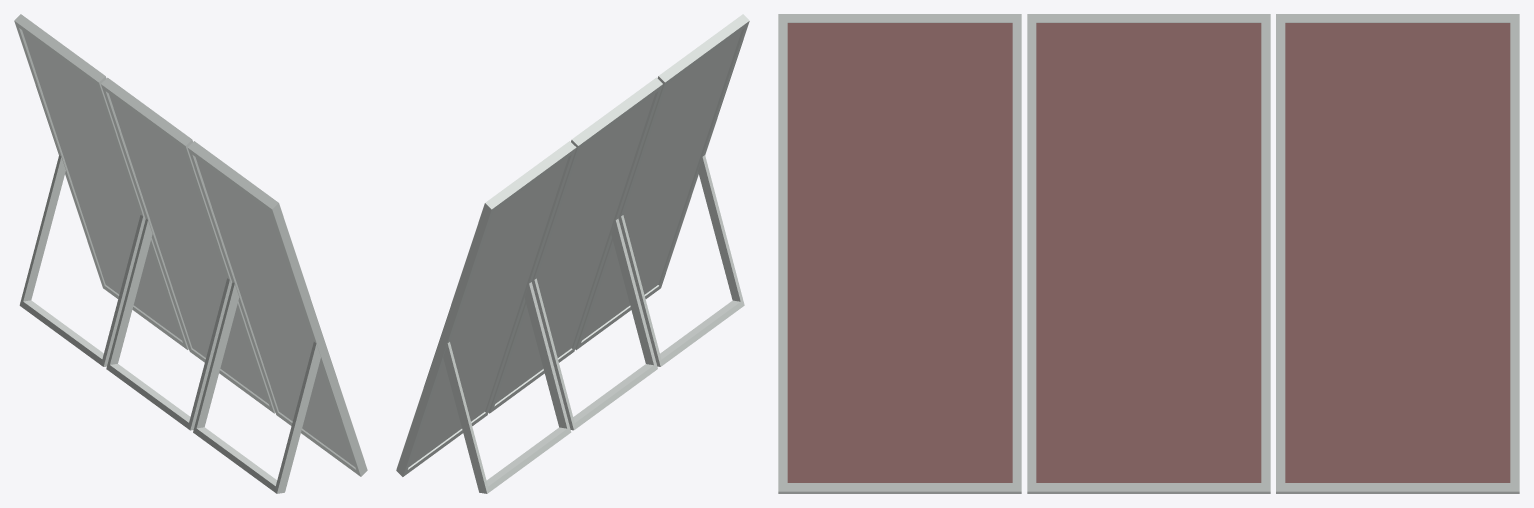
3 renders of one model, left to right at view 1: azimuth 30°, elevation 25°; view 2: azimuth 150°, elevation 25°; view 3: azimuth 270°, elevation 25°, orthographic. The views are drawn at different scales.
Visible parts, largest first — view 1: G:\FFXIV-MapTools\exports\e3ec\bg\ex2\02_est_e3\evt\e3ec\bgp; view 2: G:\FFXIV-MapTools\exports\e3ec\bg\ex2\02_est_e3\evt\e3ec\bgp; view 3: G:\FFXIV-MapTools\exports\e3ec\bg\ex2\02_est_e3\evt\e3ec\bgp (×2).
Boxes of the visible parts, <box> form: G:\FFXIV-MapTools\exports\e3ec\bg\ex2\02_est_e3\evt\e3ec\bgp: <box>14,14,367,493</box>; G:\FFXIV-MapTools\exports\e3ec\bg\ex2\02_est_e3\evt\e3ec\bgp: <box>396,14,749,493</box>; G:\FFXIV-MapTools\exports\e3ec\bg\ex2\02_est_e3\evt\e3ec\bgp (×2): <box>778,14,1519,493</box>.
Bounding box in the file's own units: 0.9041 × 2.66 × 4.23.
